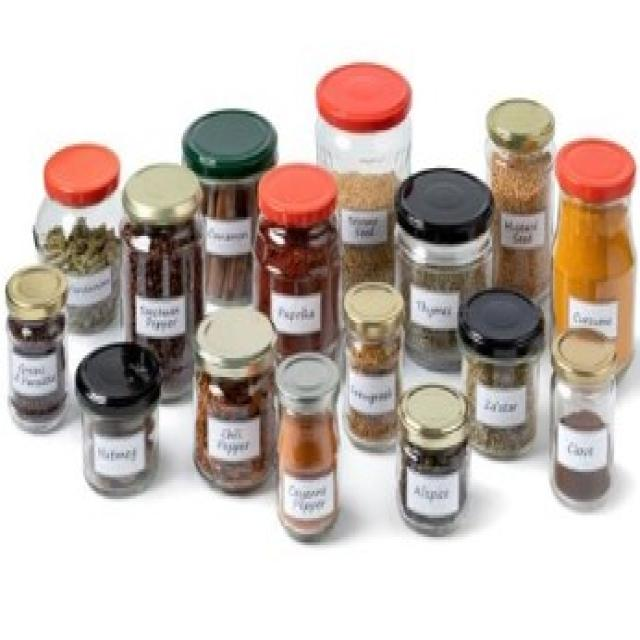electronic: (310, 55, 415, 281), (549, 134, 640, 390), (397, 165, 495, 383), (121, 158, 201, 411), (254, 165, 346, 385), (180, 106, 278, 312), (30, 144, 125, 338), (264, 343, 346, 553), (192, 305, 278, 496), (481, 99, 557, 310), (65, 340, 163, 499), (460, 278, 542, 468), (547, 321, 621, 511), (396, 378, 473, 537), (340, 278, 404, 468), (5, 258, 68, 441)
